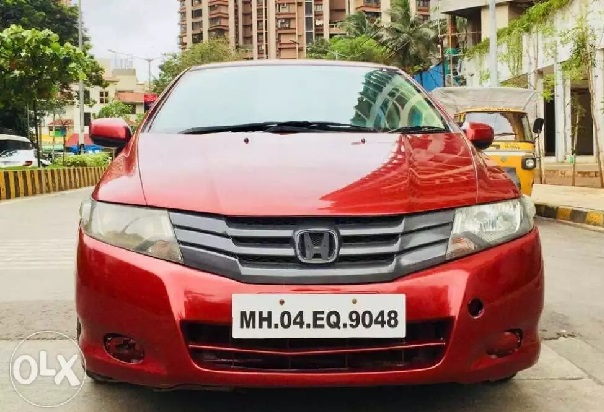licenseplate: (231, 292, 410, 341)
